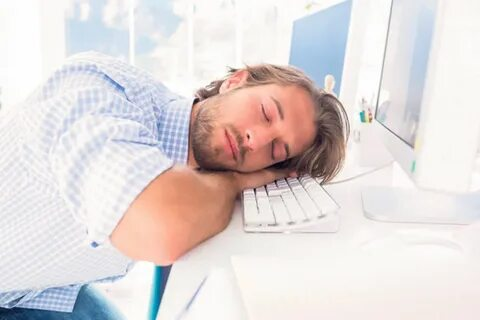sleep: (1, 56, 349, 275)
